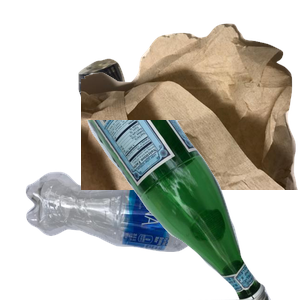glass: (75, 120, 300, 300)
metal: (75, 56, 198, 185)
plastic: (23, 169, 243, 300)
trash: (81, 21, 300, 201)
